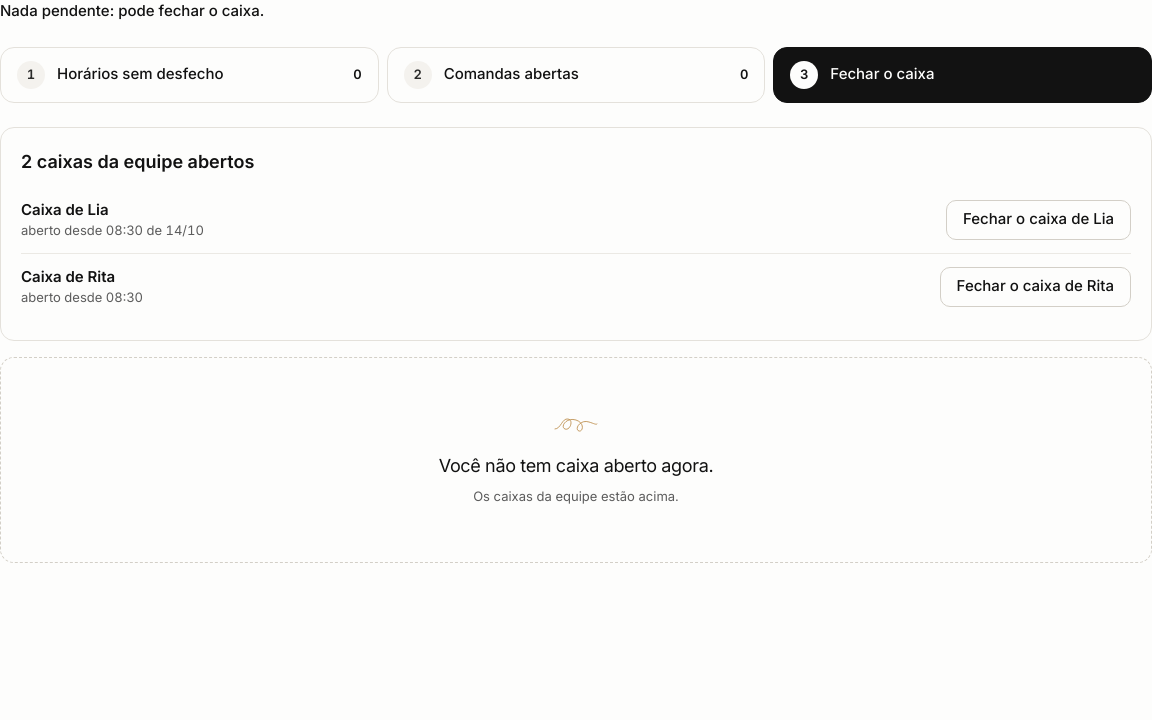
Test: Fechar o dia › passo 3 da gestão (QA r58, I-3): os caixas abertos da equipe com quem abriu e desde quando, e fecha dali
Expected: the element named "Caixas abertos da equipe" shows "Caixa de Rita", x1=21 y1=266 x2=115 y2=286
Expected: the element named "Caixas abertos da equipe" shows "aberto desde 08:30", x1=21 y1=289 x2=143 y2=305
Click the button "Fechar o caixa de Rita": x=1035, y=286 x1=940 y1=266 x2=1131 y2=306
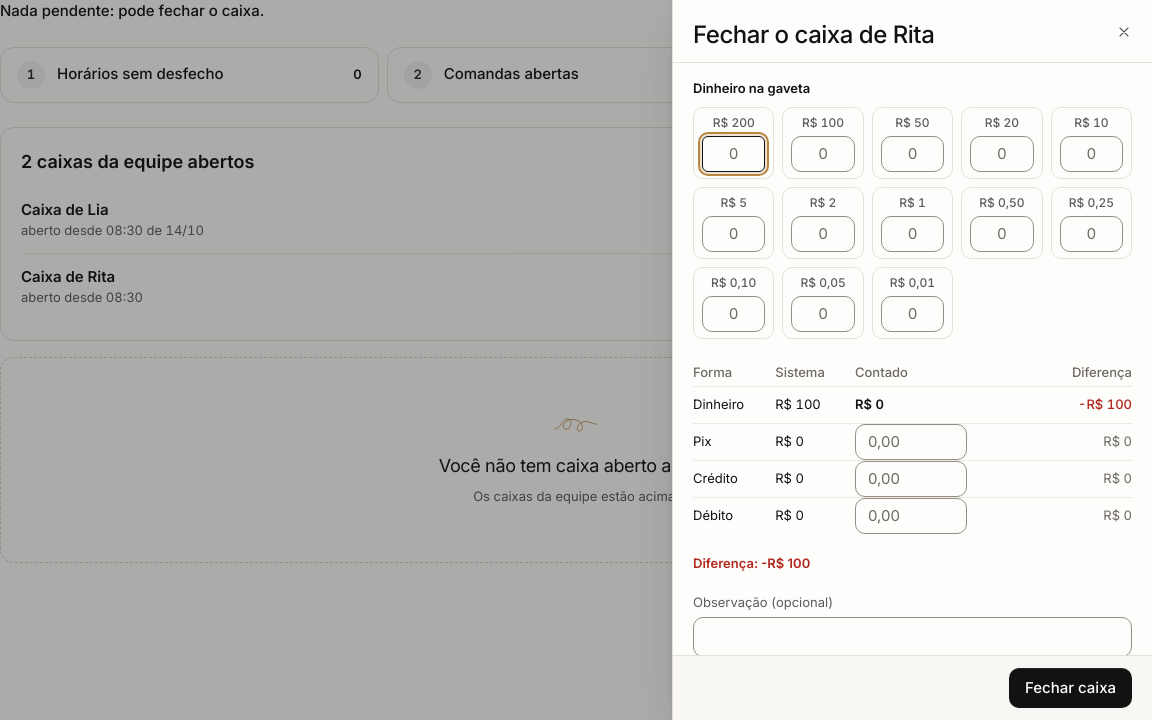
Expected: the dialog "Fechar o caixa de Rita" is shown, x1=672 y1=0 x2=1151 y2=719
